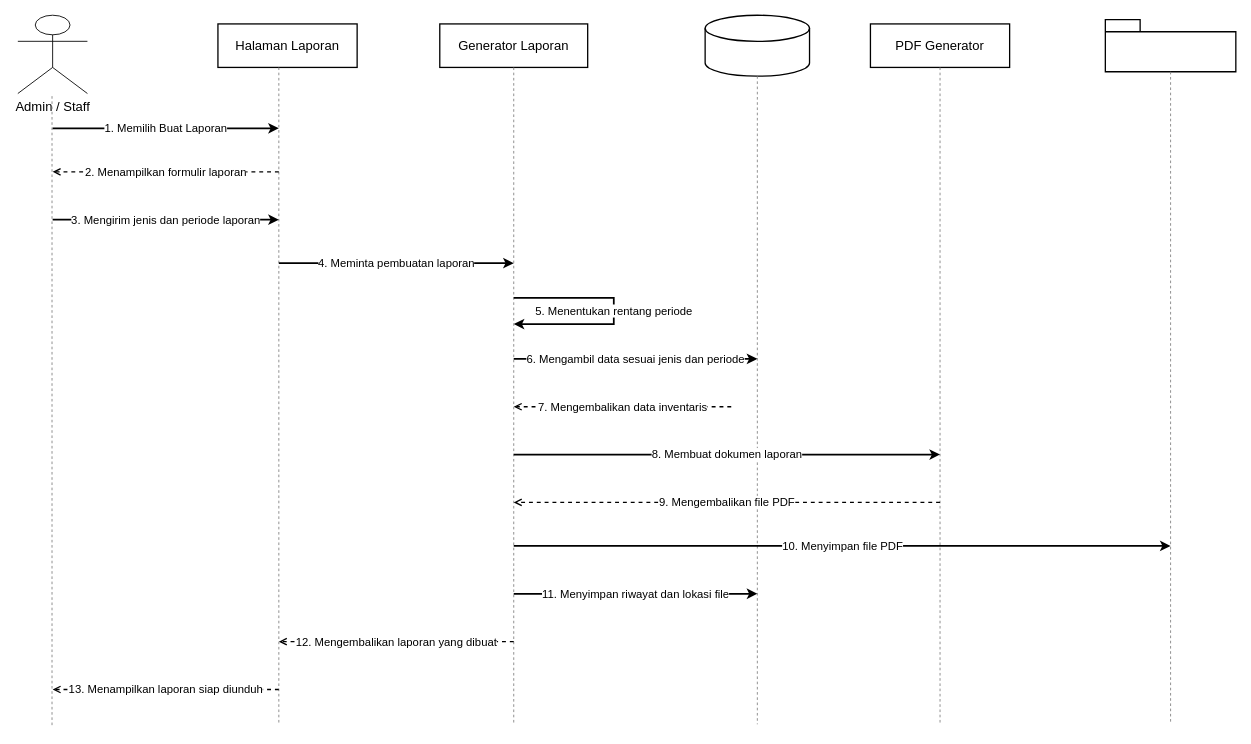
Image size: 1251x744. Some labels were removed from this diagram. The shapes that lost their labels are listed below. From the top down, each one's centre as x and y in pixels, then its label:
At point (757, 45): "Database".
At point (1170, 45): "File Storage".
